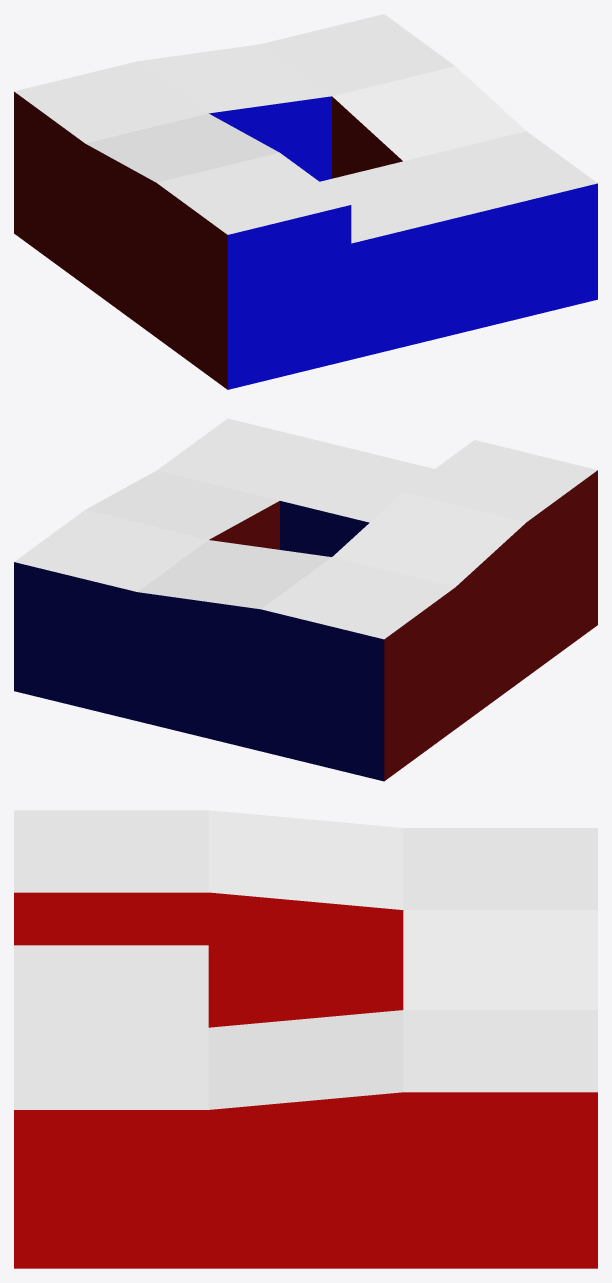
Rendered from labeled_mesh.glb.
3 renders of one model, top to bottom at view 1: azimuth 30°, elevation 25°; view 2: azimuth 150°, elevation 25°; view 3: azimuth 270°, elevation 25°, orthographic. The views are drawn at different scales.
Bounding box in the file's own units: 3000 × 1200 × 3000.
1 material, 1 textured.
